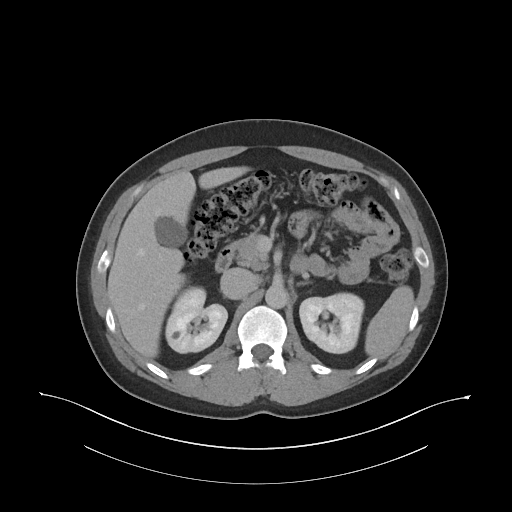Lesion: (164, 323, 185, 345)
